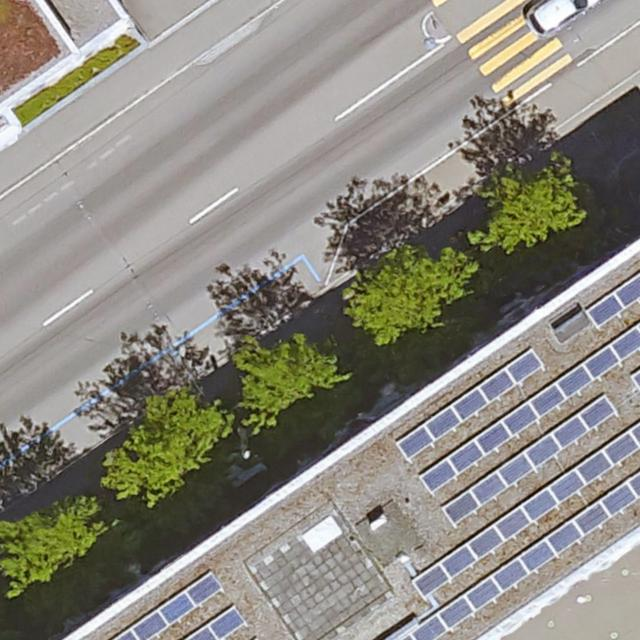tree: (0, 497, 118, 632), (103, 397, 236, 516), (353, 253, 484, 355), (237, 343, 353, 452), (472, 180, 591, 278)
